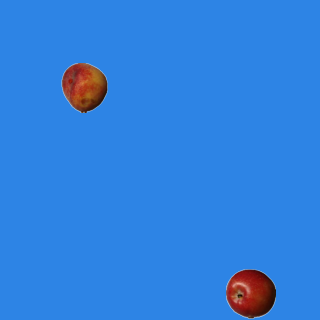Apple Braeburn: (225, 268, 275, 318)
Peach: (59, 62, 109, 112)
